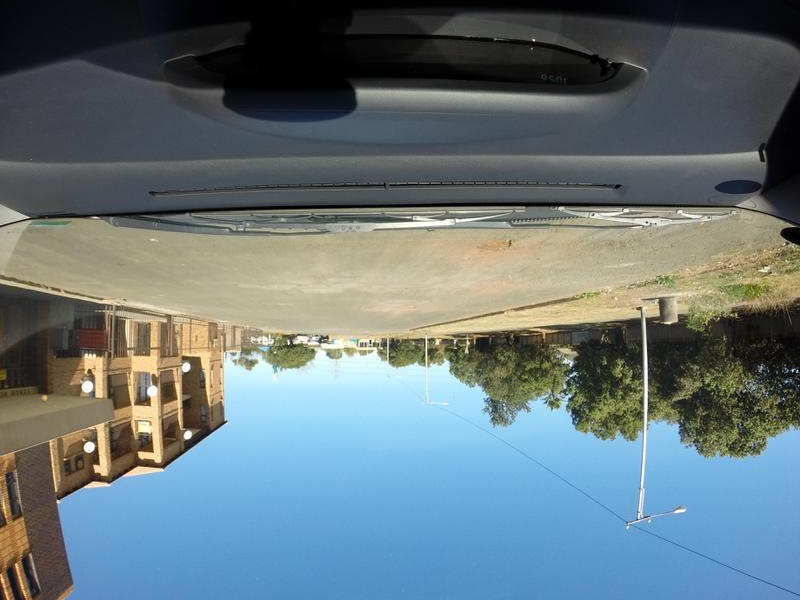pothole: (477, 240, 515, 251), (587, 240, 622, 250)
